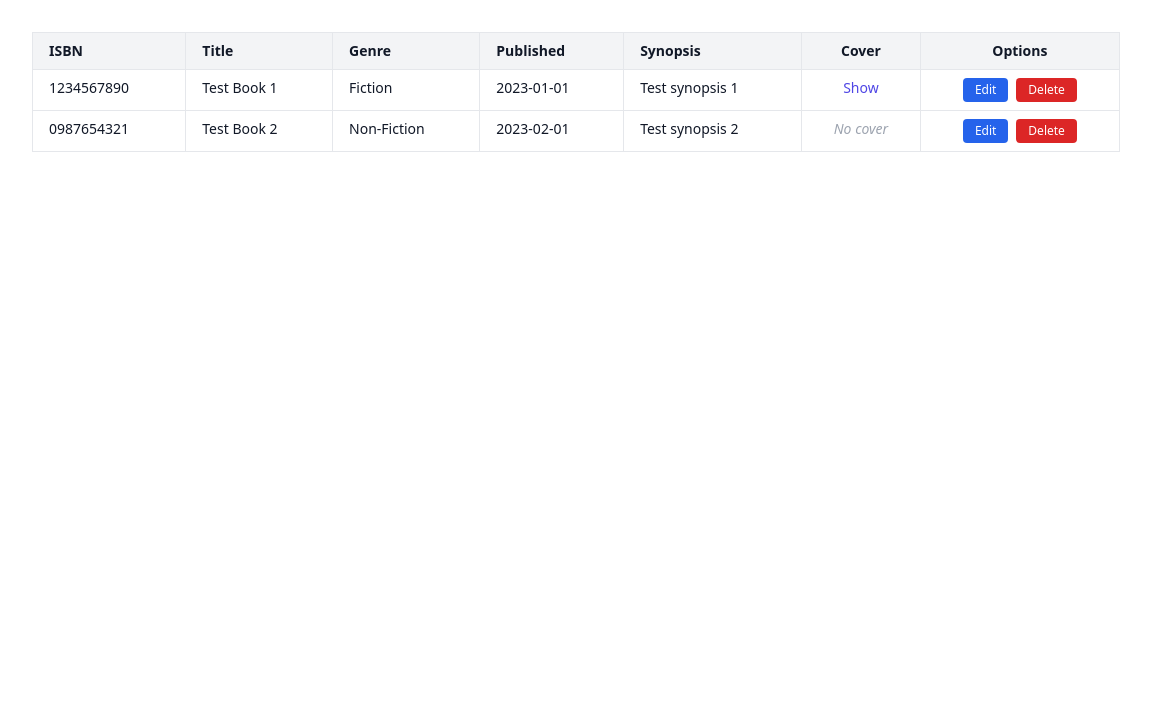
Test: BookTable Component › shows cover image modal when cover button is clicked
Click the button "Show" at {"x": 861, "y": 88}, box [843,78,879,98]
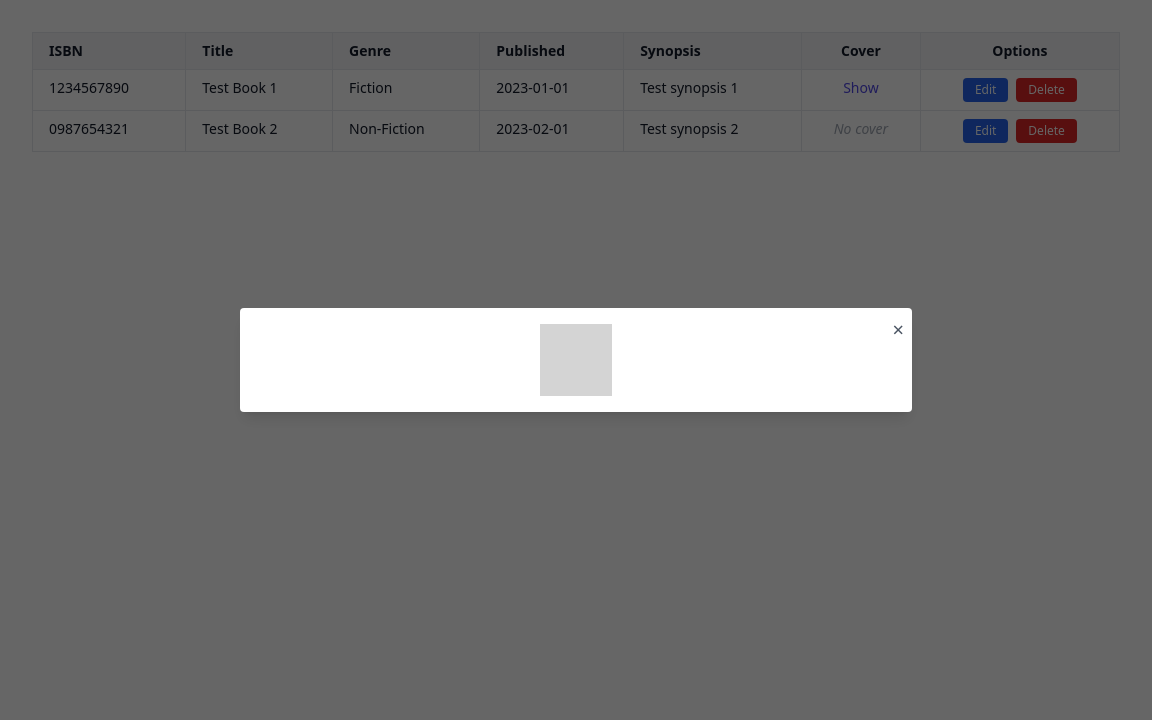
Check: the button named "close" is shown, box [892,316,904,344]
